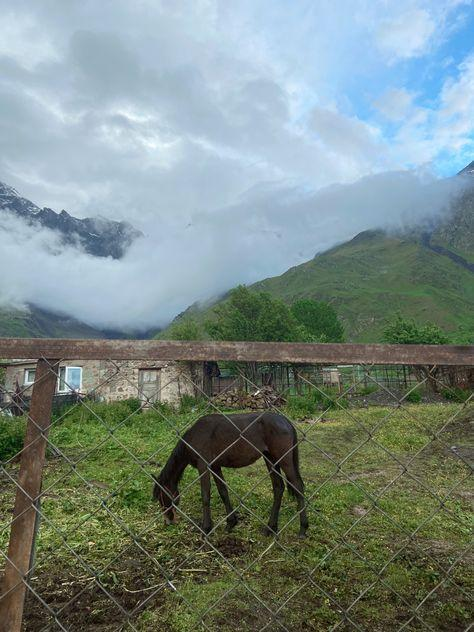horse: (151, 410, 309, 539)
